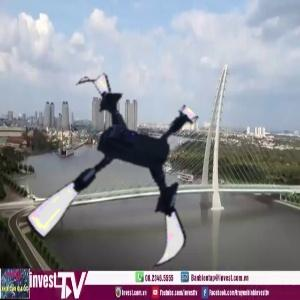drone: (20, 80, 218, 278)
